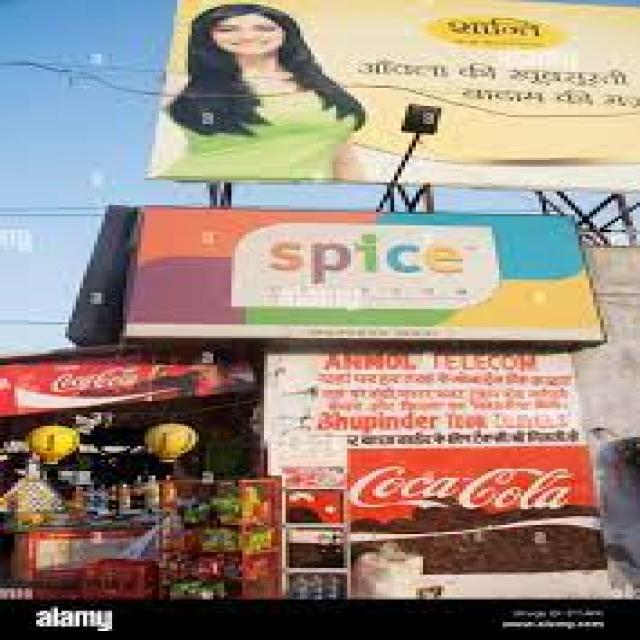Werbetafel frei: (152, 1, 638, 177), (108, 205, 593, 342)
